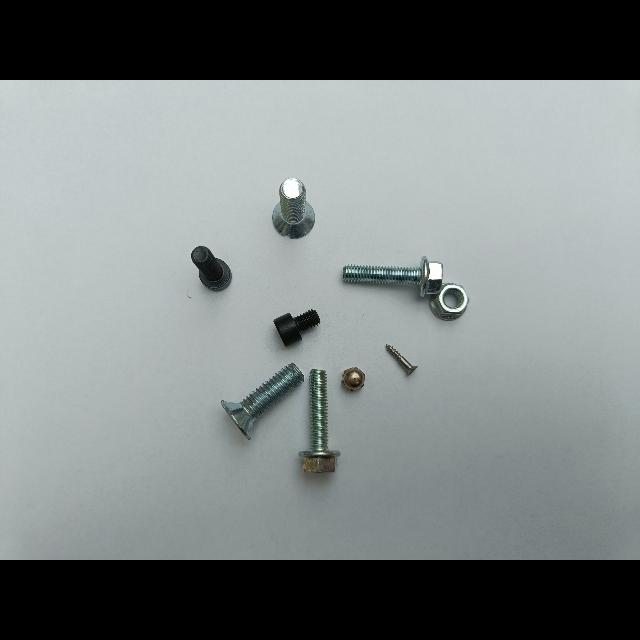bolt: (221, 363, 304, 439), (298, 369, 340, 472), (343, 256, 442, 298), (272, 178, 315, 239), (191, 246, 232, 291), (274, 310, 320, 346), (385, 344, 417, 375)
nuts: (430, 283, 469, 321), (342, 367, 365, 390)
